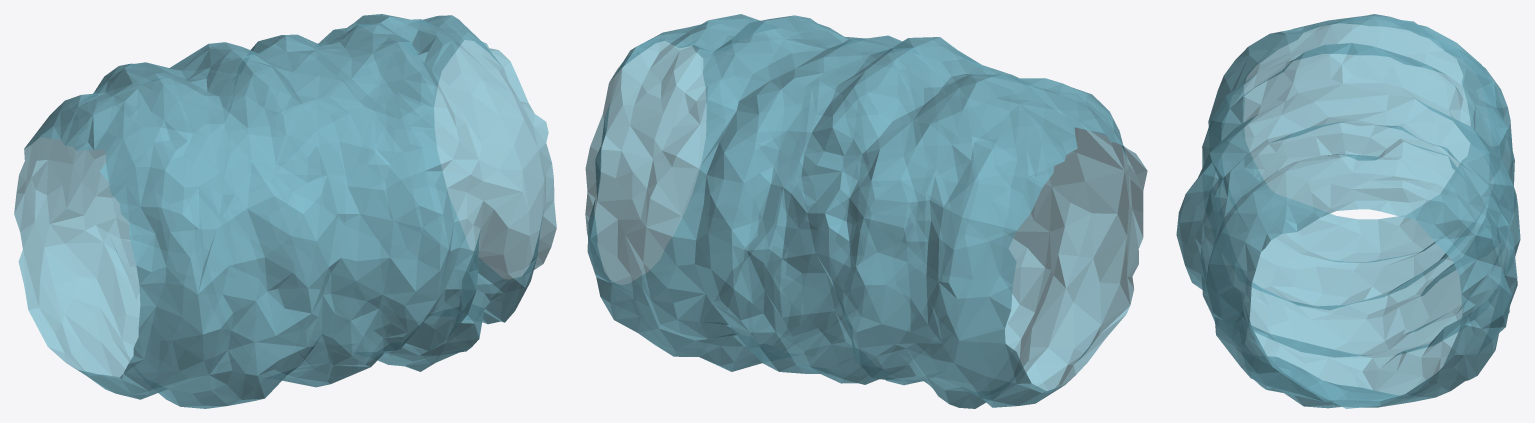
File: waterfall-lowpoly-non-metallic.fbx
3 renders of one model, left to right at view 1: azimuth 30°, elevation 25°; view 2: azimuth 150°, elevation 25°; view 3: azimuth 270°, elevation 25°, orthographic. The views are drawn at different scales.
Visible parts, largest first — view 1: Landscape; view 2: Landscape; view 3: Landscape.
Part boxes in pixels (x1,y1,x2,y2): Landscape: (14, 14, 556, 408); Landscape: (585, 14, 1147, 408); Landscape: (1176, 14, 1520, 408).
Size of the model in its own units: 672 by 505 by 525.
